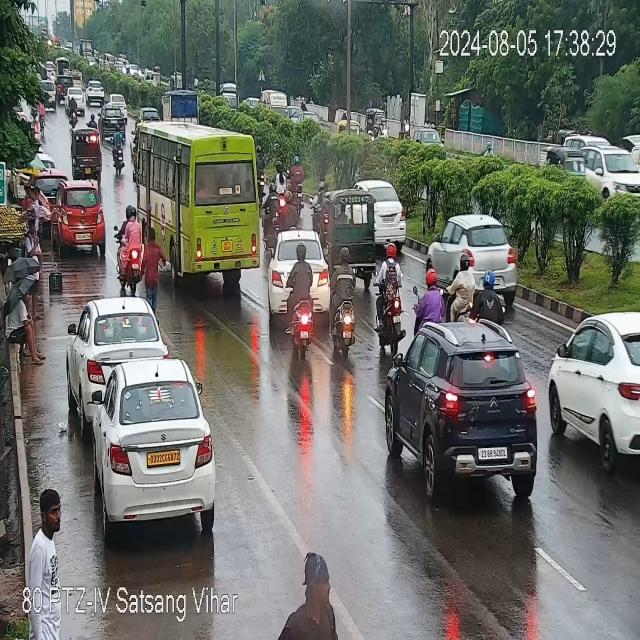2-wheelers: (370, 241, 408, 355), (333, 240, 357, 361), (117, 208, 146, 298), (286, 244, 316, 326), (465, 274, 511, 321), (412, 270, 448, 328), (110, 126, 129, 174), (268, 157, 287, 202), (291, 153, 304, 214), (64, 92, 78, 129)
auto: (322, 180, 386, 270), (70, 125, 103, 177), (547, 139, 586, 178), (367, 104, 388, 137)
bus: (133, 121, 264, 285)
car: (378, 326, 538, 502), (92, 357, 214, 524), (542, 307, 636, 469), (68, 297, 164, 396), (428, 216, 523, 281), (269, 232, 333, 322), (349, 176, 411, 247), (51, 184, 106, 248), (581, 144, 640, 199), (95, 104, 129, 147), (54, 68, 73, 104), (86, 82, 110, 105)
pedestrian: (28, 488, 72, 582), (21, 184, 48, 326), (3, 287, 48, 365), (137, 232, 168, 304)
truck: (170, 88, 204, 120)
